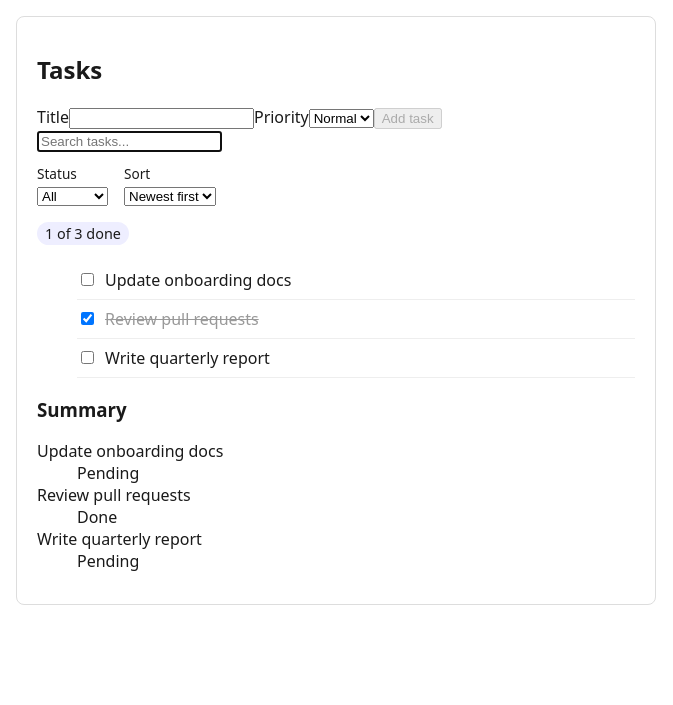
Test case: TaskList › adds a new task via the controlled form
Check: the 1st text "Write quarterly report" is shown, box [105,347,270,369]
Type "Ship the release notes" into the field labelled "Title" at (162, 118), box [69,108,254,129]
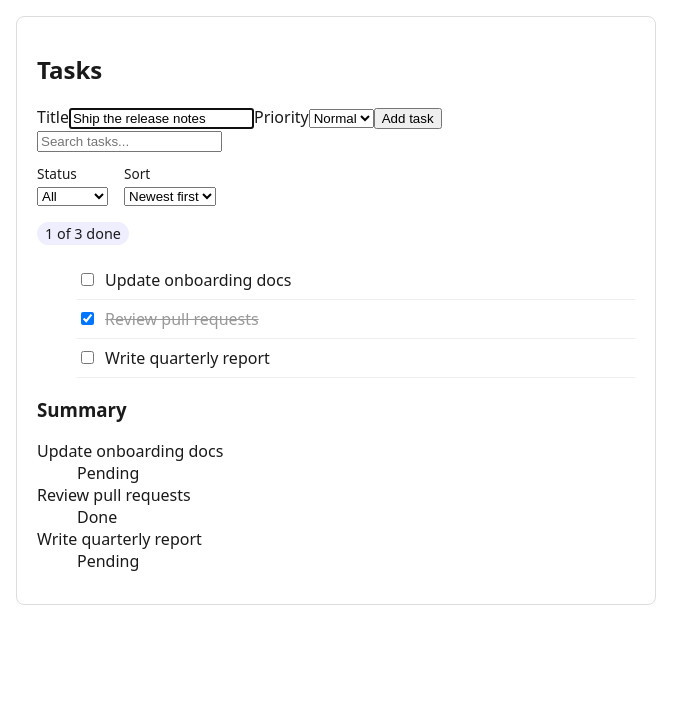
Click the button "Add task" at (408, 118), box [374,108,442,129]
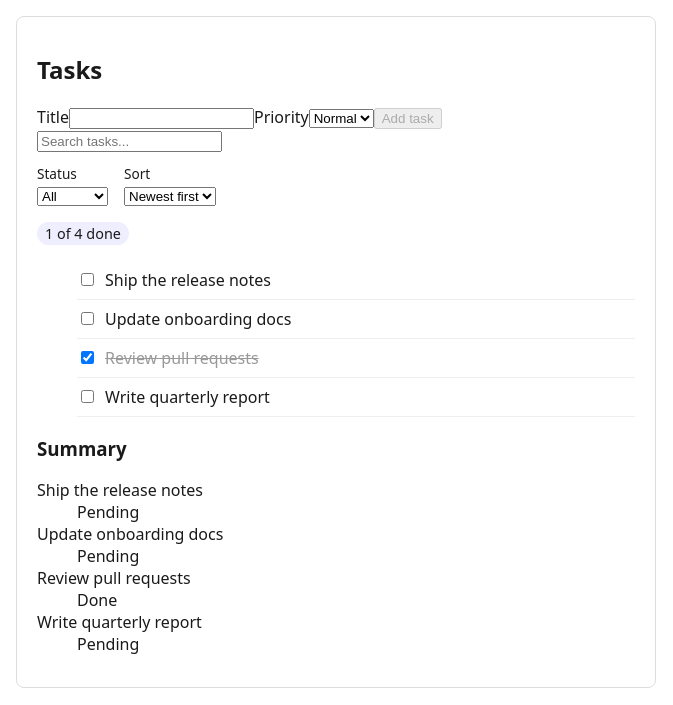
Check: the 1st text "Ship the release notes" is shown, box [105,269,271,291]
Check: the field labelled "Title" is empty, box [69,108,254,129]
